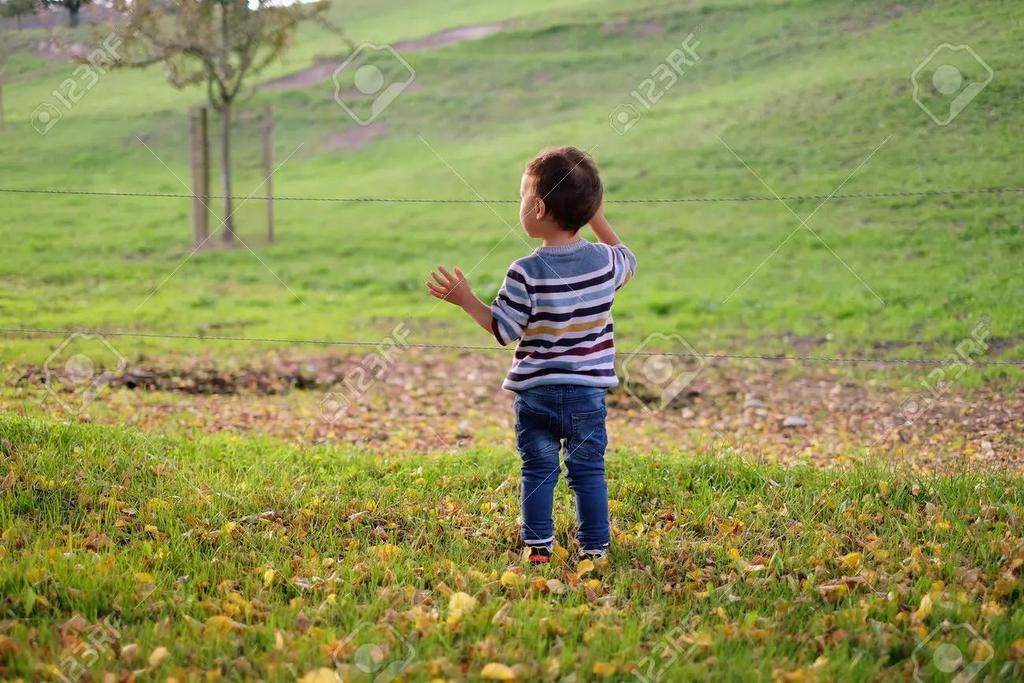child: (422, 141, 671, 576)
